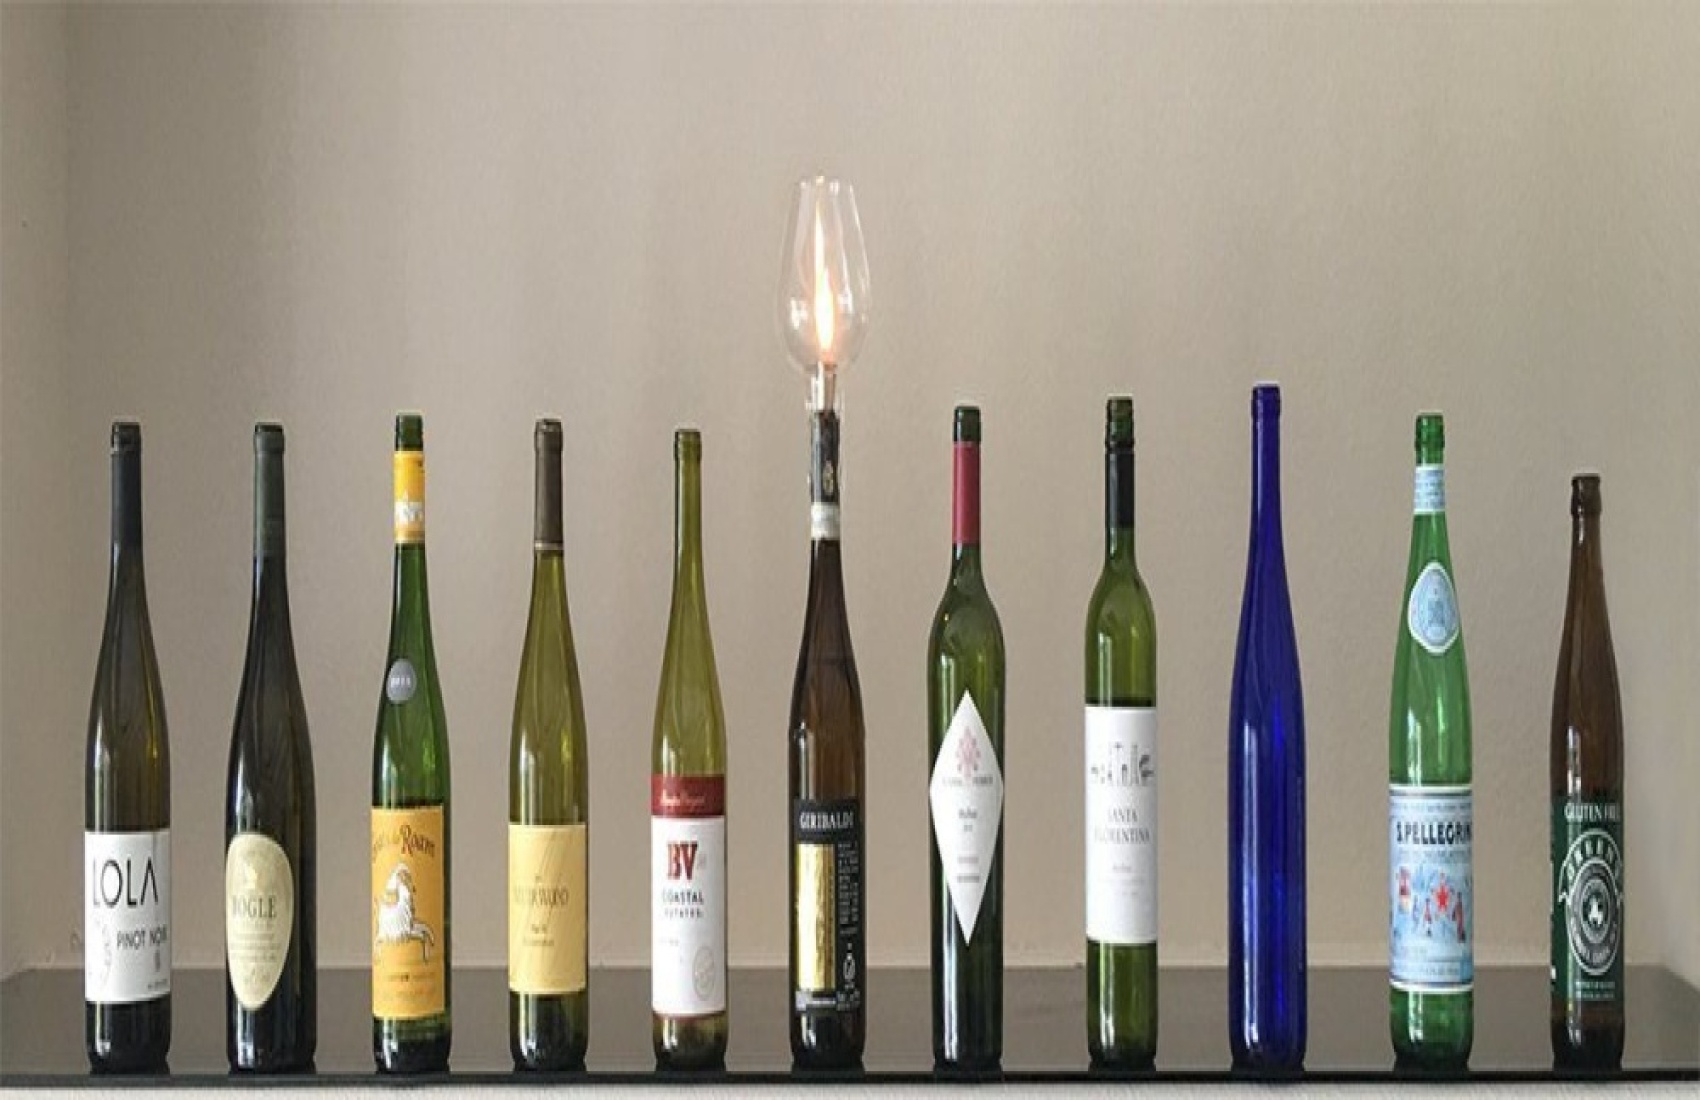wine: (1076, 404, 1161, 1065), (1223, 394, 1308, 1055), (1387, 405, 1472, 1067), (1541, 422, 1627, 1083), (646, 411, 731, 1072), (924, 409, 1009, 1070), (786, 396, 870, 1057), (509, 411, 594, 1072), (364, 411, 449, 1072), (226, 411, 310, 1072), (84, 416, 169, 1076)
